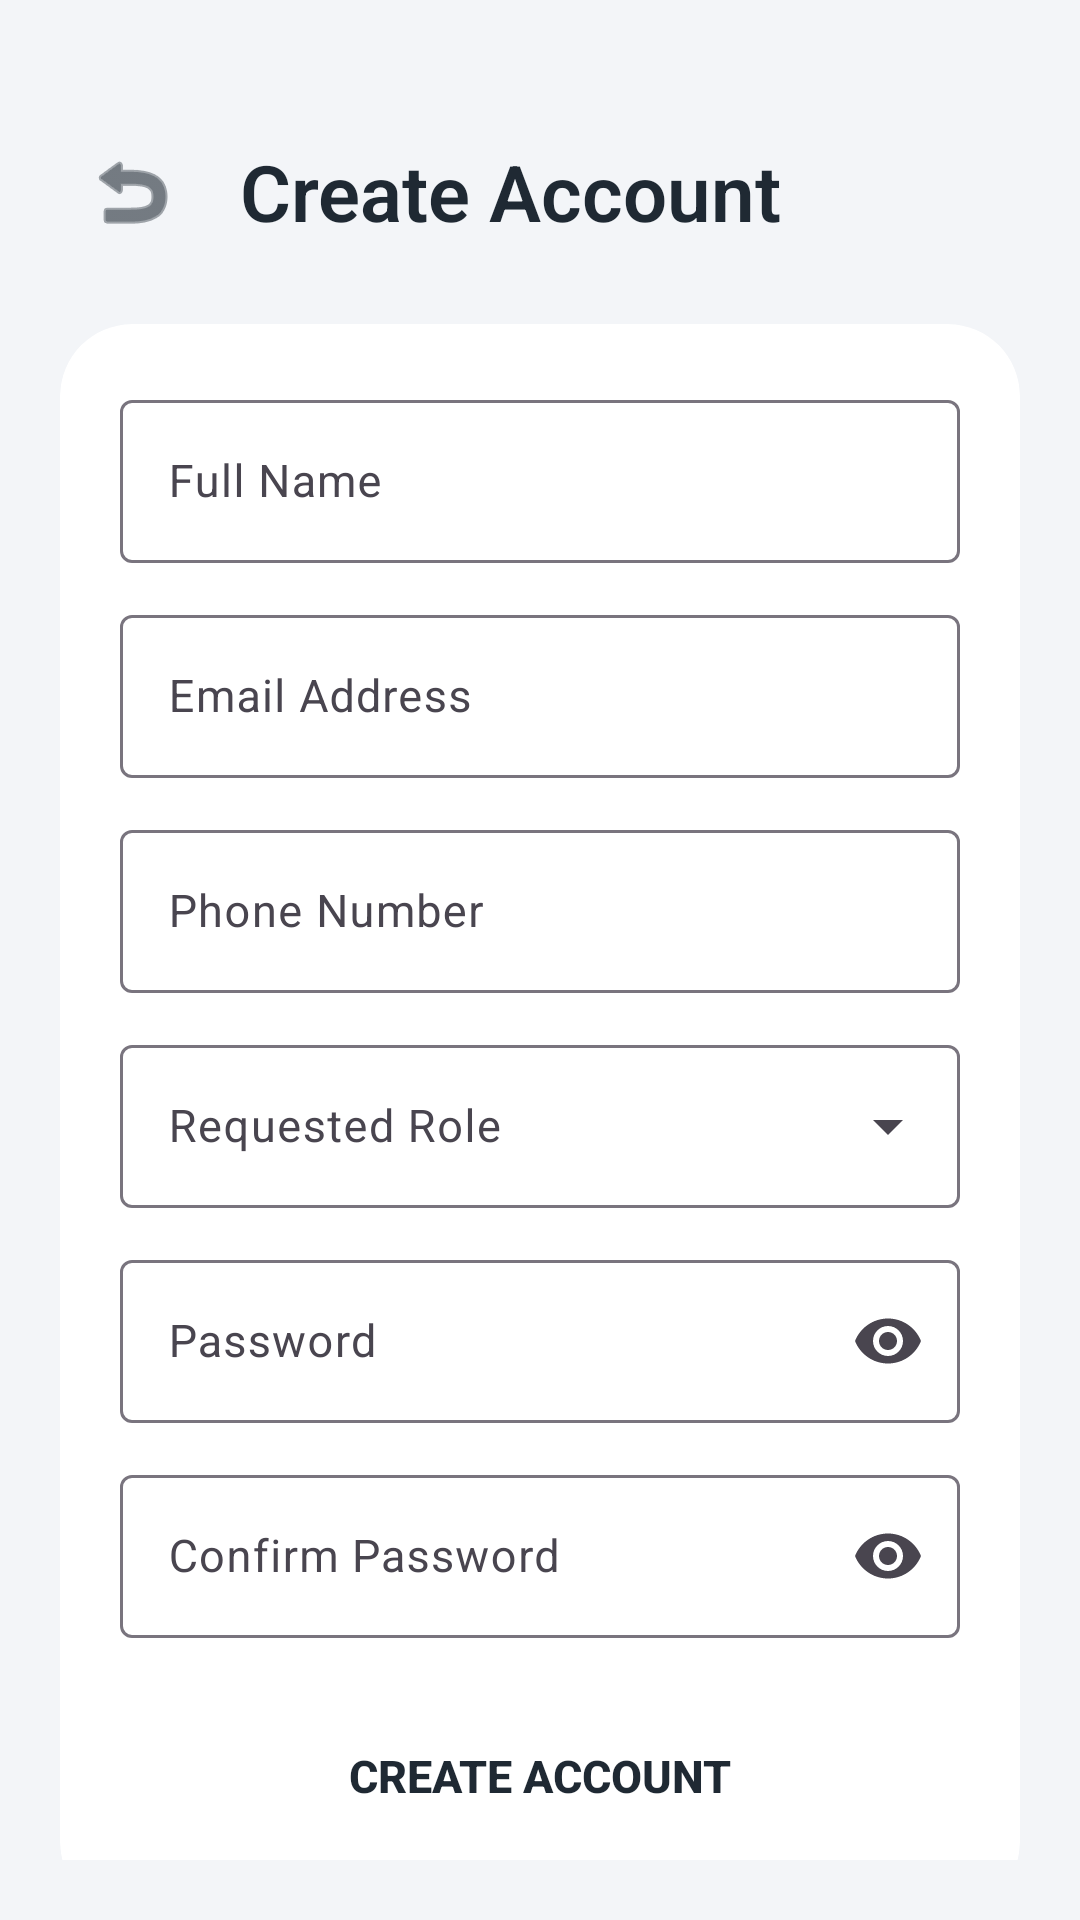

Point at icon controls on the screen. Image size 1080×1920, points as point (x, y).
revert: point (133, 192)
